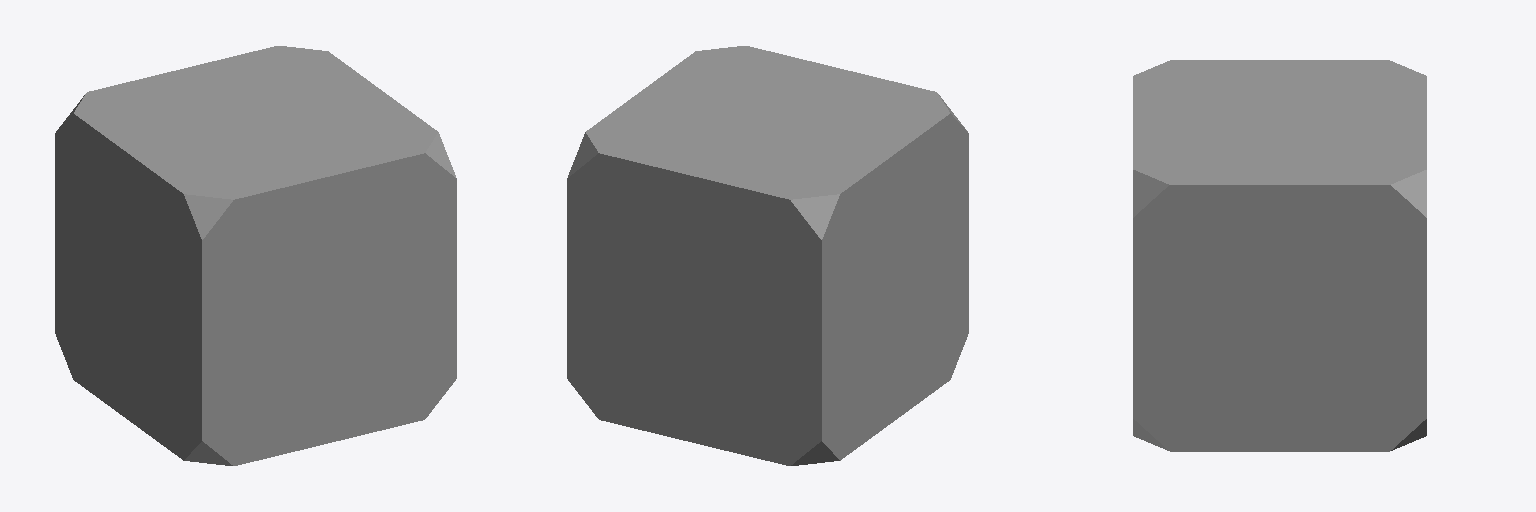
File: RoundCube1.obj
The picture shows the model from 3 angles: view 1: azimuth 30°, elevation 25°; view 2: azimuth 150°, elevation 25°; view 3: azimuth 270°, elevation 25°; orthographic projection.
Parts seen in each view (by area): view 1: Cube; view 2: Cube; view 3: Cube.
Boxes of the visible parts, x1,y1,x2,y2 form: Cube: [55, 46, 456, 465]; Cube: [567, 46, 968, 465]; Cube: [1133, 60, 1426, 451].
Size of the model in its own units: 2 by 2 by 2.